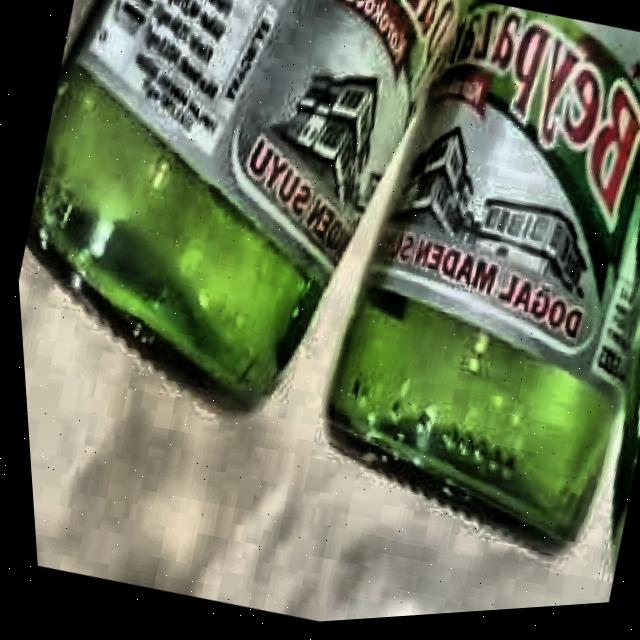glass: (23, 0, 640, 569)
